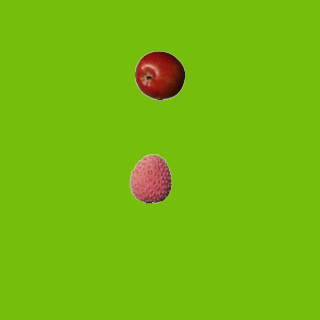Apple Braeburn: (134, 50, 184, 100)
Lychee: (125, 153, 175, 203)
